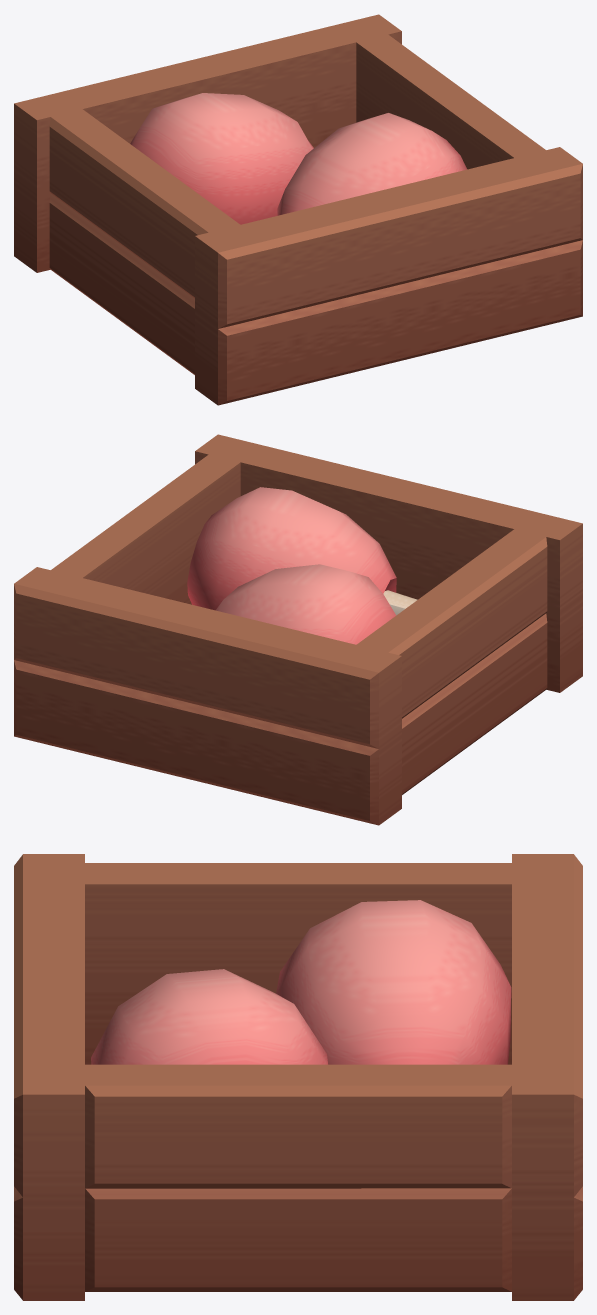
Rendered from crate_ham.gltf.
The picture shows the model from 3 angles, top to bottom: view 1: azimuth 30°, elevation 25°; view 2: azimuth 150°, elevation 25°; view 3: azimuth 270°, elevation 25°; orthographic projection. The views are drawn at different scales.
Parts seen in each view (by area): view 1: crate_ham; view 2: crate_ham; view 3: crate_ham.
Boxes of the visible parts, x1,y1,x2,y2 form: crate_ham: (14, 14, 582, 405); crate_ham: (14, 434, 582, 825); crate_ham: (14, 854, 582, 1300).
Size of the model in its own units: 2 by 0.8937 by 2.
Materials: 1 (1 with a texture image).
